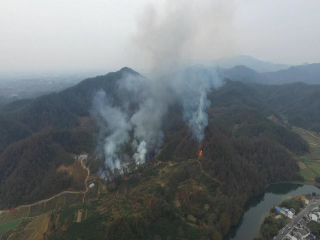smoke: (86, 3, 219, 184)
